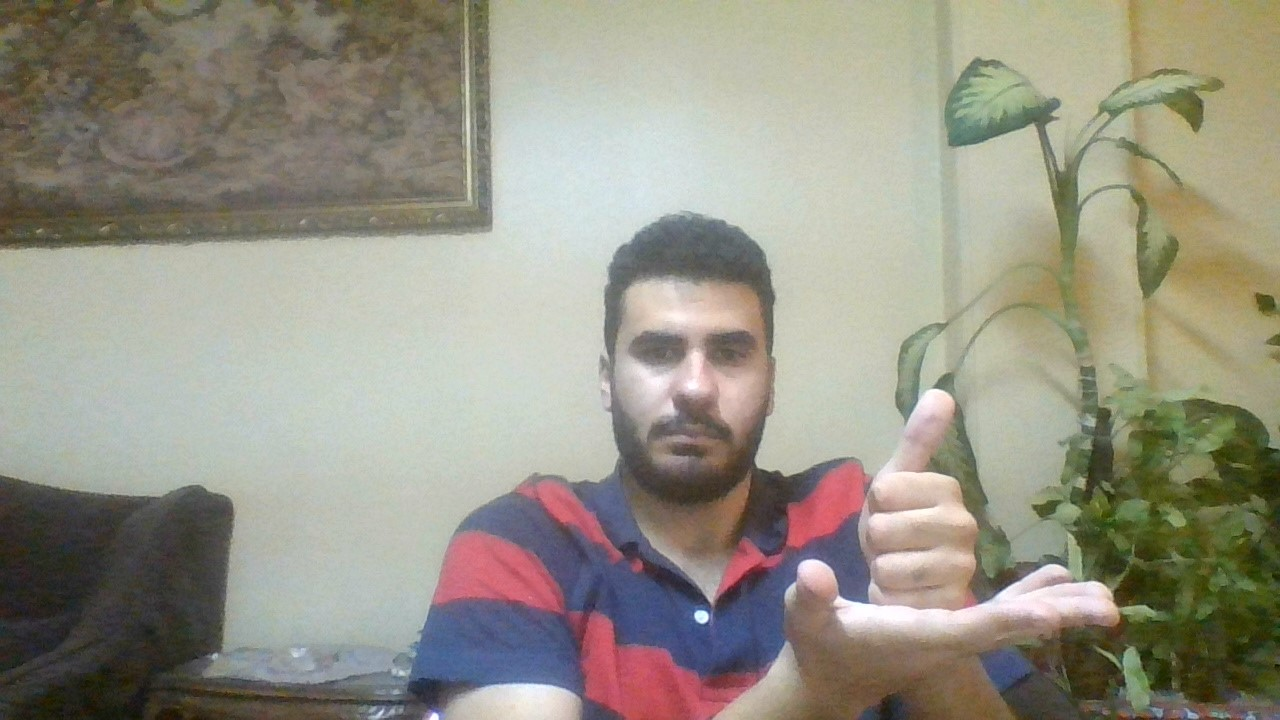help: (787, 377, 1126, 665)
